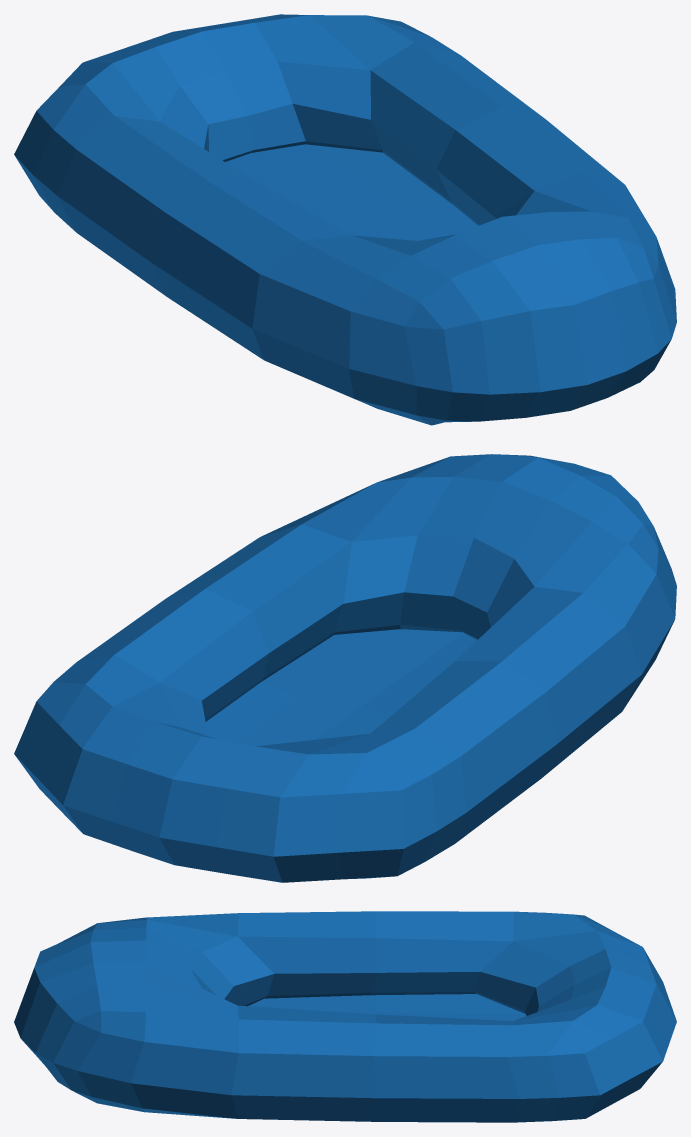
File: Boat_02.fbx
3 views of the same model, one above another, from view 1: azimuth 30°, elevation 25°; view 2: azimuth 150°, elevation 25°; view 3: azimuth 270°, elevation 25° (orthographic). The views are drawn at different scales.
Parts seen in each view (by area): view 1: Boat_02; view 2: Boat_02; view 3: Boat_02.
Boxes of the visible parts, <box> form: Boat_02: <box>14,14,676,425</box>; Boat_02: <box>14,454,676,882</box>; Boat_02: <box>14,911,676,1122</box>.
Size of the model in its own units: 239 by 99.34 by 433.
